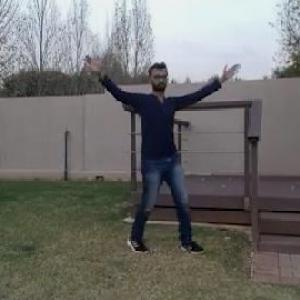takeoff: (81, 57, 239, 260)
